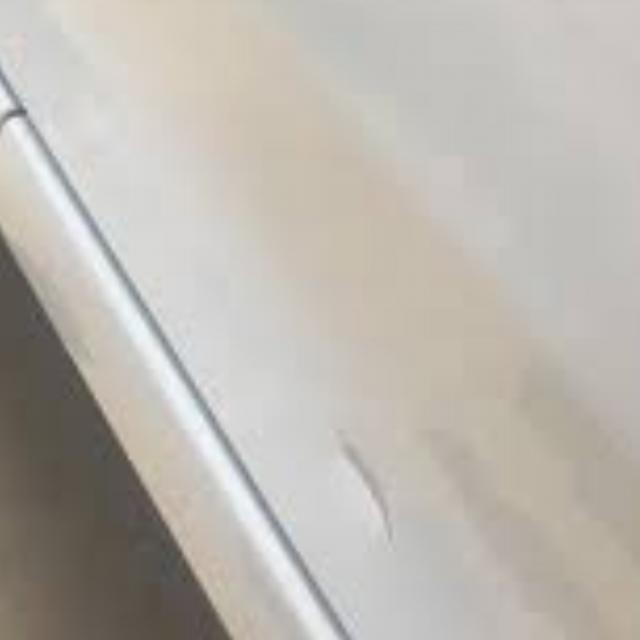dents: (306, 398, 431, 562)
